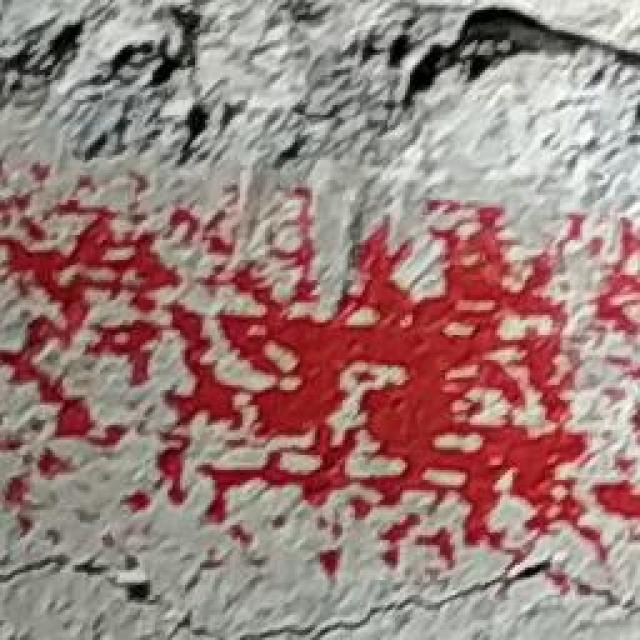Rippled: (11, 1, 640, 530)
Transverse: (7, 528, 640, 640)
